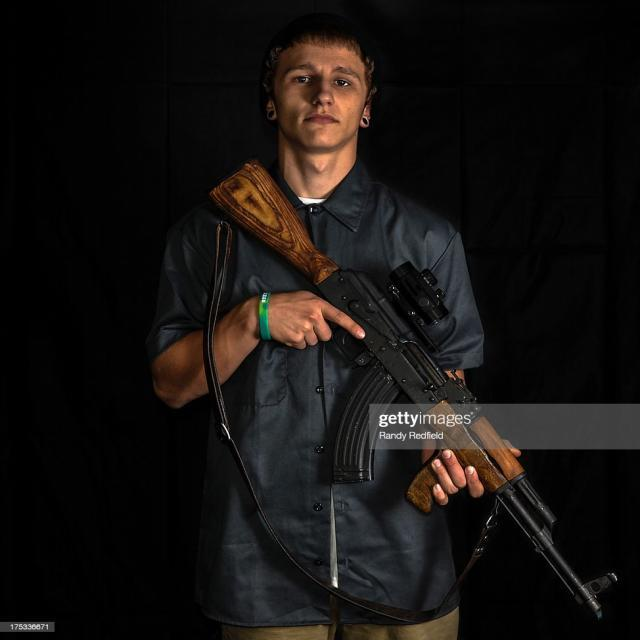weapon: (202, 158, 628, 634)
